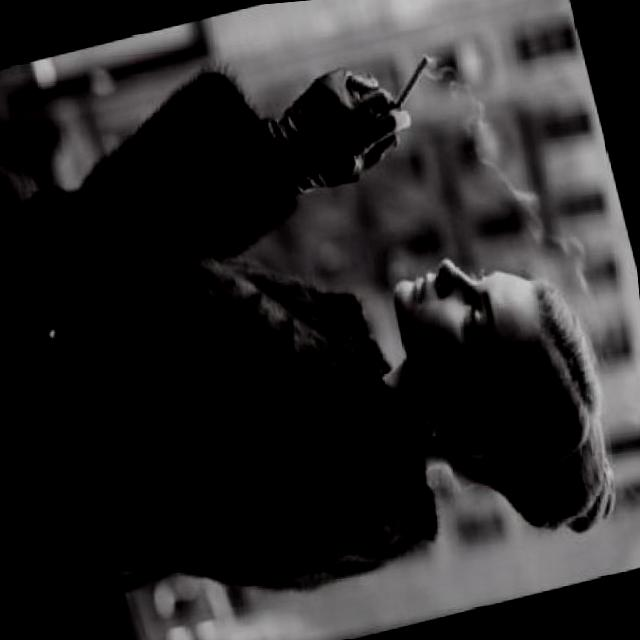smoke: (385, 56, 441, 115)
